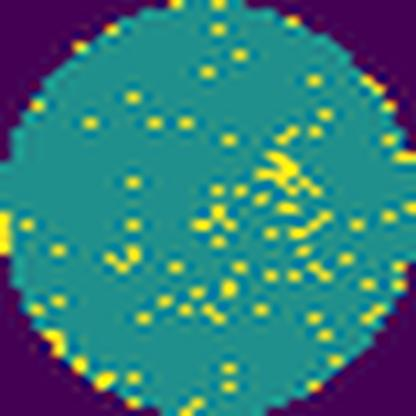Edge-Loc: (254, 149, 325, 202)
